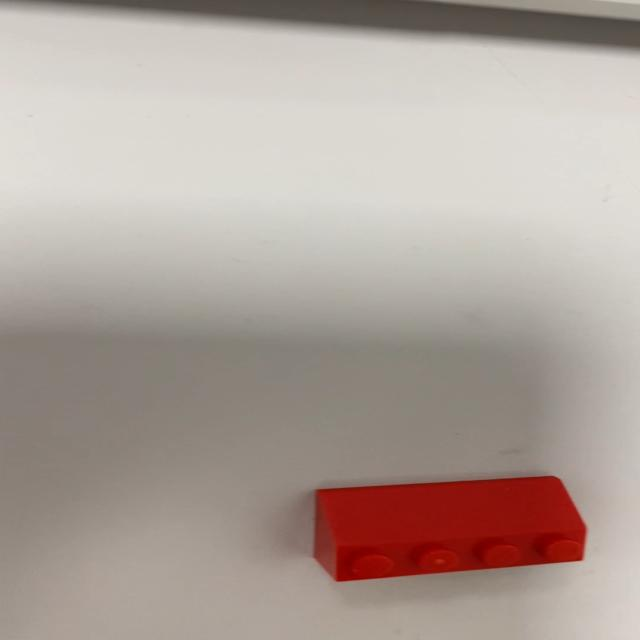P4x2x1: (311, 474, 588, 582)
